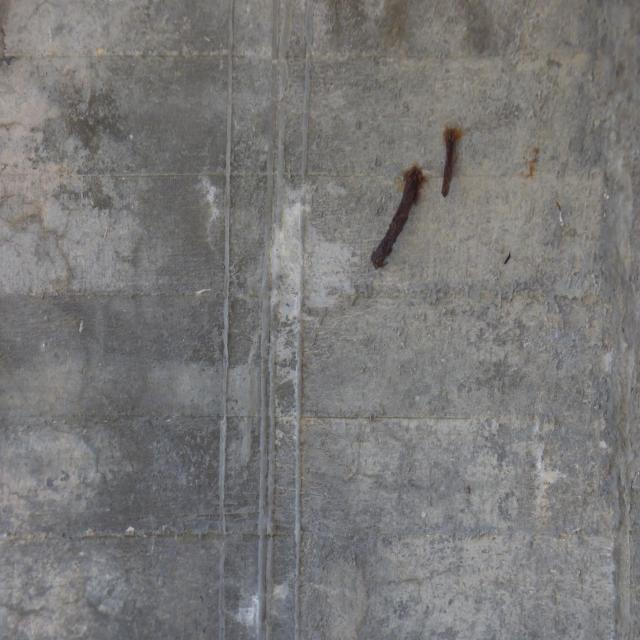corrosion: (346, 104, 475, 278)
